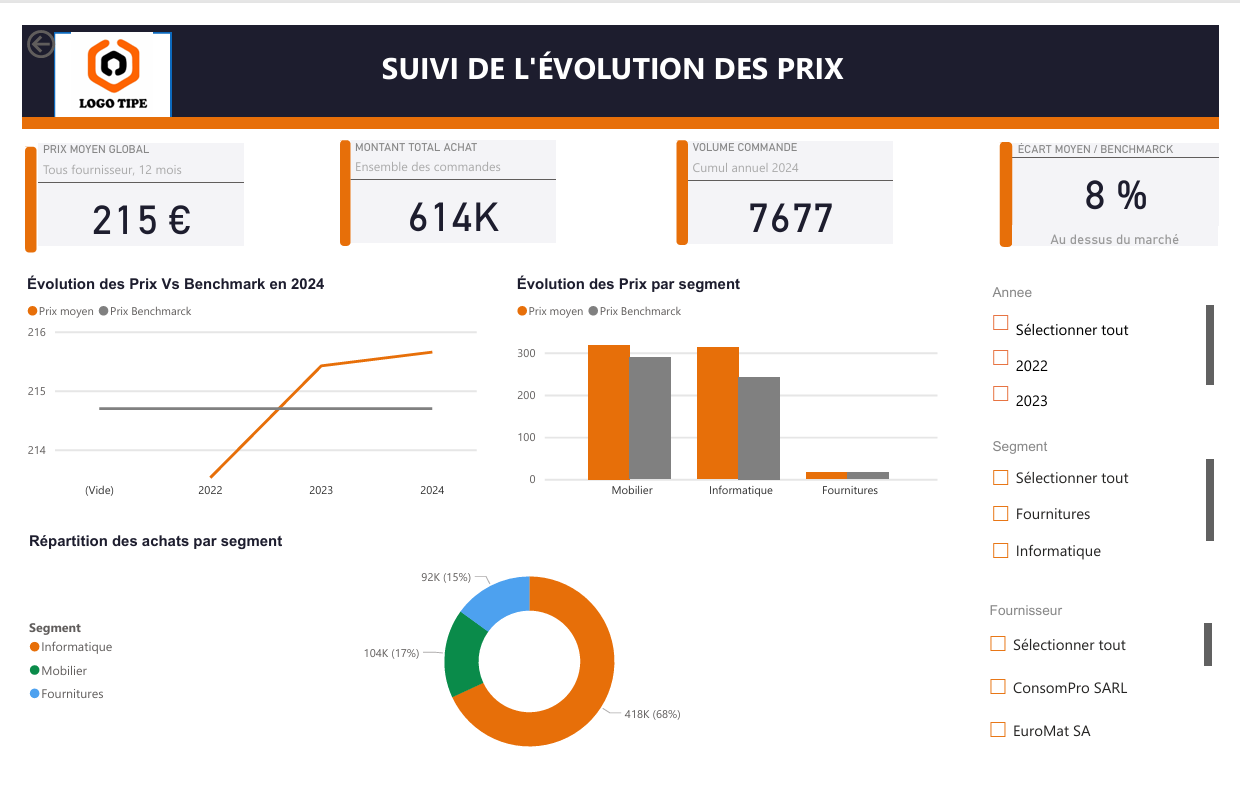

The dashboard page shown, as its layout file describes it:
{"tool":"powerbi","page":{"name":"Evolution Prix","canvas":[1280,800],"ordinal":0},"visuals":[{"type":"card","title":"PRIX MOYEN GLOBAL","fields":{"Values":["Historique_Prix.Prix_moyen"]},"box":[16.7,126.3,220,110],"z":0},{"type":"lineChart","title":"Évolution des Prix Vs Benchmark en 2024","fields":{"Category":["Historique_Prix.Annee"],"Y":["Historique_Prix.Prix_moyen"],"Y2":["Historique_Prix.Prix_Benchmarck"]},"box":[0,268.1,491.2,248.3],"z":1000},{"type":"clusteredColumnChart","title":"Évolution des Prix par segment","fields":{"Category":["Produits.Segment"],"Y":["Historique_Prix.Prix_moyen","Historique_Prix.Prix_Benchmarck"]},"box":[523.6,268.1,460.6,248.3],"z":2000},{"type":"listSlicer","fields":{"Values":["Historique_Prix.Annee"]},"box":[1032.5,277.5,247.5,142.5],"z":3000},{"type":"listSlicer","fields":{"Values":["Produits.Segment"]},"box":[1032.5,442.5,247.5,145],"z":4000},{"type":"listSlicer","title":"Fournisseur","fields":{"Values":["Fournisseurs.Nom_Fournisseur"]},"box":[1030,617.5,247.5,165],"z":5000},{"type":"textbox","box":[0,0,1280.8,105.2],"z":6000},{"type":"shape","box":[2.7,130.1,12,113.3],"z":7000},{"type":"shape","box":[34,8.1,124.7,90.7],"z":8000},{"type":"image","box":[24.3,8.1,145.7,90.7],"z":9000},{"type":"shape","box":[0,98.8,1280.8,12],"z":10000},{"type":"card","title":"MONTANT TOTAL ACHAT","fields":{"Values":["Historique_Prix.montant_total"]},"box":[350.8,122.5,220.2,110.1],"z":11000},{"type":"shape","box":[340,122.5,11.3,113.3],"z":12000},{"type":"card","title":"VOLUME COMMANDE","fields":{"Values":["Historique_Prix.Volume_total"]},"box":[712.2,123.9,220,110],"z":13000},{"type":"shape","box":[699.6,123.3,12.7,112.2],"z":14000},{"type":"actionButton","box":[0,0,100,40],"z":15000},{"type":"card","title":"ÉCART MOYEN / BENCHMARCK","fields":{"Values":["Historique_Prix.pct_ecart_pondere"]},"box":[1060,125.6,220.6,88.2],"z":16000},{"type":"shape","box":[1046.1,124.8,12.7,112.2],"z":17000},{"type":"card","fields":{"Values":["Historique_Prix.statutBenchmarck"]},"box":[1059.2,213.7,220.2,22.7],"z":18000},{"type":"donutChart","title":"Répartition des achats par segment","fields":{"Category":["Produits.Segment"],"Y":["Historique_Prix.montant_total"]},"box":[1.8,543.3,982.3,257.3],"z":19000}]}

Visuals, with their boxes in screenshot pixels (x1, y1, x2, y2), scaled from the page's 1280x800 canvas onto the 1240x793 screenshot:
"PRIX MOYEN GLOBAL" card: box(16, 125, 229, 234)
"Évolution des Prix Vs Benchmark en 2024" lineChart: box(0, 266, 476, 512)
"Évolution des Prix par segment" clusteredColumnChart: box(507, 266, 953, 512)
listSlicer - Historique_Prix.Annee: box(1000, 275, 1239, 416)
listSlicer - Produits.Segment: box(1000, 439, 1239, 582)
"Fournisseur" listSlicer: box(998, 612, 1238, 776)
textbox: box(0, 0, 1239, 104)
shape: box(3, 129, 14, 241)
shape: box(33, 8, 154, 98)
image: box(24, 8, 165, 98)
shape: box(0, 98, 1239, 110)
"MONTANT TOTAL ACHAT" card: box(340, 121, 553, 231)
shape: box(329, 121, 340, 234)
"VOLUME COMMANDE" card: box(690, 123, 903, 232)
shape: box(678, 122, 690, 233)
actionButton: box(0, 0, 97, 40)
"ÉCART MOYEN / BENCHMARCK" card: box(1027, 125, 1239, 212)
shape: box(1013, 124, 1026, 235)
card - Historique_Prix.statutBenchmarck: box(1026, 212, 1239, 234)
"Répartition des achats par segment" donutChart: box(2, 539, 953, 792)
